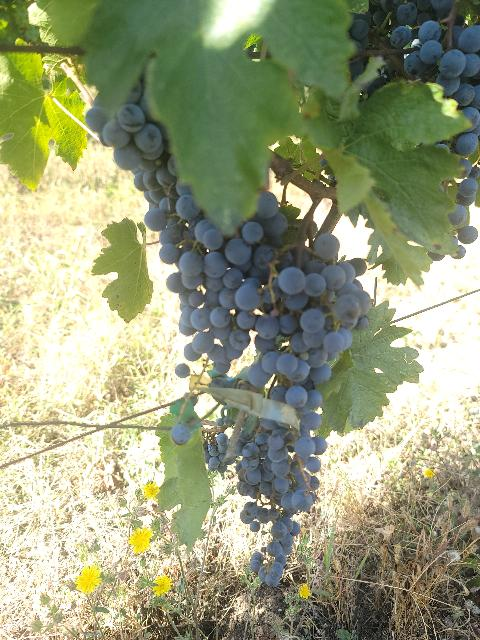grapes: (144, 184, 288, 370), (250, 234, 371, 430), (374, 0, 480, 205), (234, 412, 326, 586)
